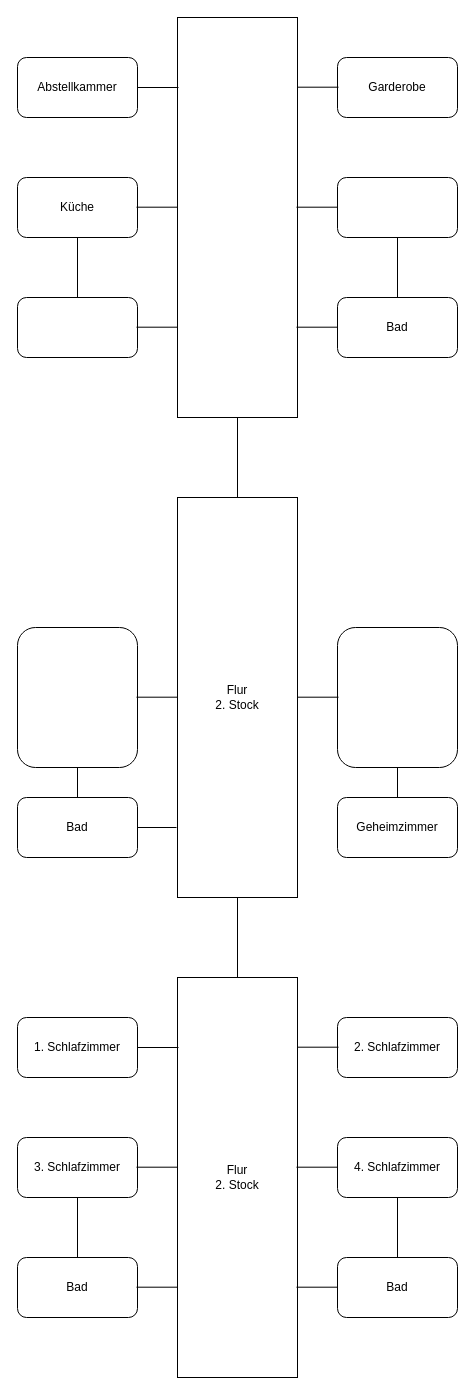
This 475x1395 diagram has some shape labels left out. Here are the shapes that lost their labels. From the top down, the centre of each, then its label:
point (237, 217): Flur Erdgeschoss
point (397, 207): Salon
point (77, 327): Speisesaal
point (77, 697): Großer Salon
point (397, 697): Arbeitszimmer
